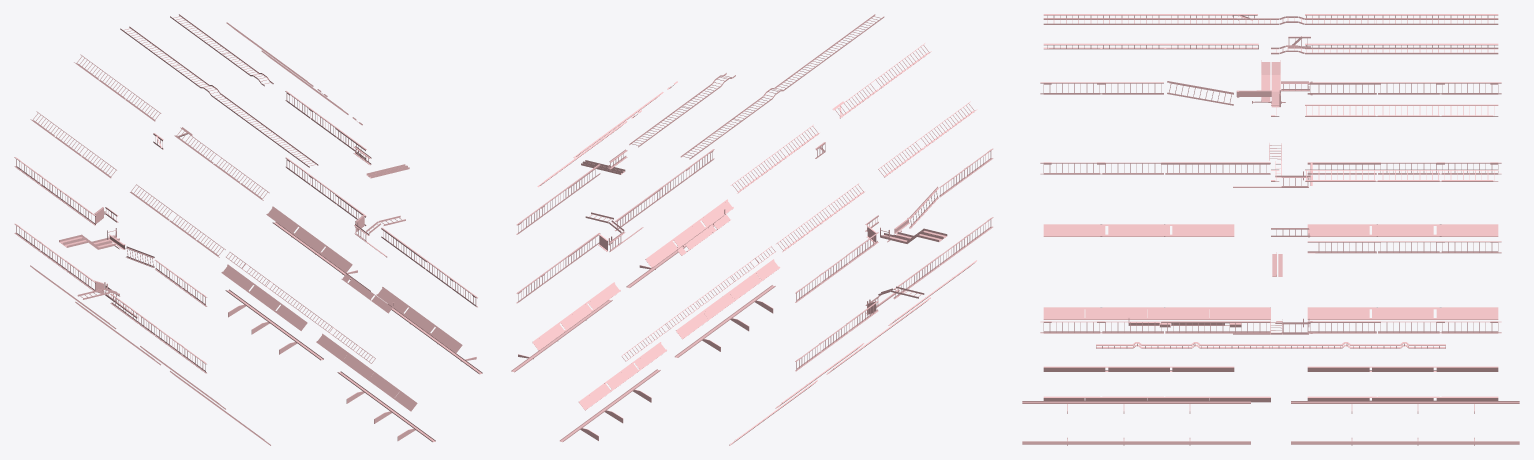
Rendered from Serv-Muon-Cable Trays Inside Barrel-cut4.glb.
3 renders of one model, left to right at view 1: azimuth 30°, elevation 25°; view 2: azimuth 150°, elevation 25°; view 3: azimuth 270°, elevation 25°, orthographic. The views are drawn at different scales.
Parts seen in each view (by area): view 1: Cabble Trays Inside Barrel cut3, Cabble Trays Inside Barrel cut1; view 2: Cabble Trays Inside Barrel cut3, Cabble Trays Inside Barrel cut1; view 3: Cabble Trays Inside Barrel cut3, Cabble Trays Inside Barrel cut1.
Part boxes in pixels (x1,y1,x2,y2): Cabble Trays Inside Barrel cut3: [14, 26, 482, 445]; Cabble Trays Inside Barrel cut1: [80, 14, 409, 333]; Cabble Trays Inside Barrel cut3: [511, 14, 993, 445]; Cabble Trays Inside Barrel cut1: [516, 73, 921, 304]; Cabble Trays Inside Barrel cut3: [1022, 14, 1519, 445]; Cabble Trays Inside Barrel cut1: [1252, 18, 1501, 334].
Bounding box in the file's own units: 23.41 × 19.81 × 24.15.
